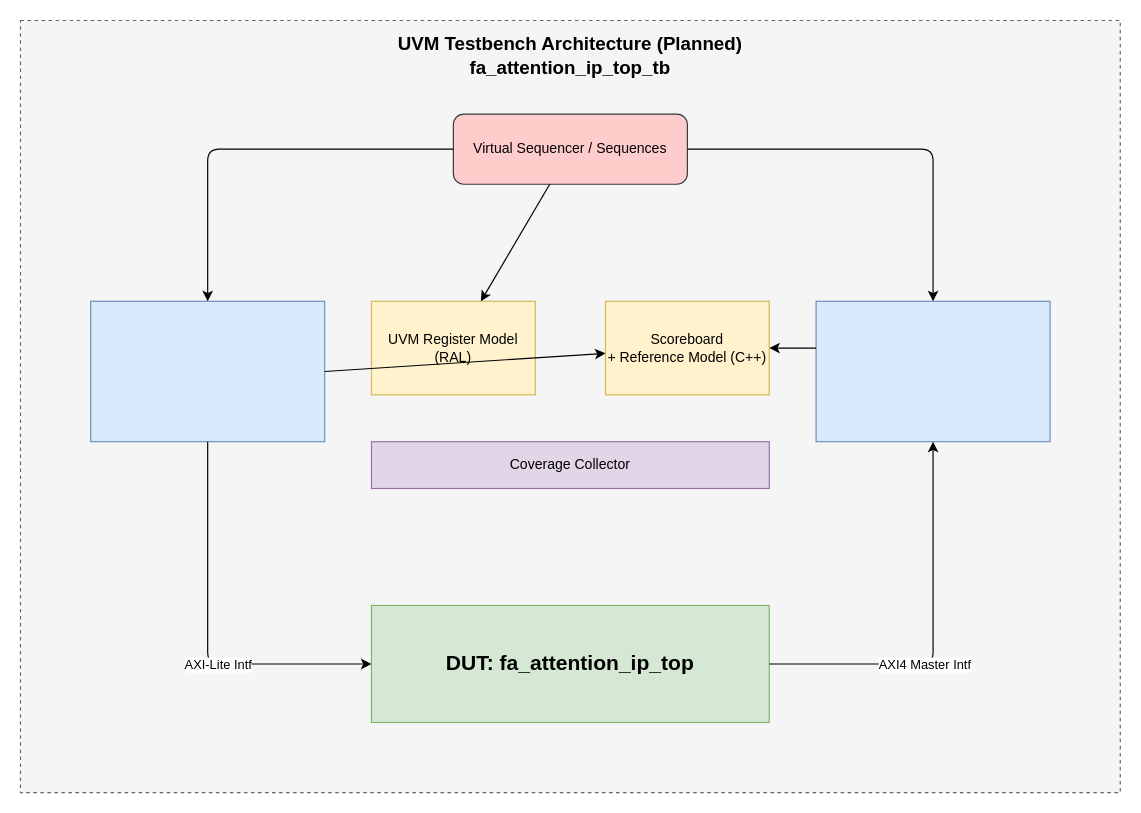
This 1141x813 diagram has some shape labels left out. Each missing label, with the centre of its shape:
AXI-Lite Master Agent (Registers Cfg): point 207,371
AXI4 Memory Slave Agent (RAM Model): point 932,371
